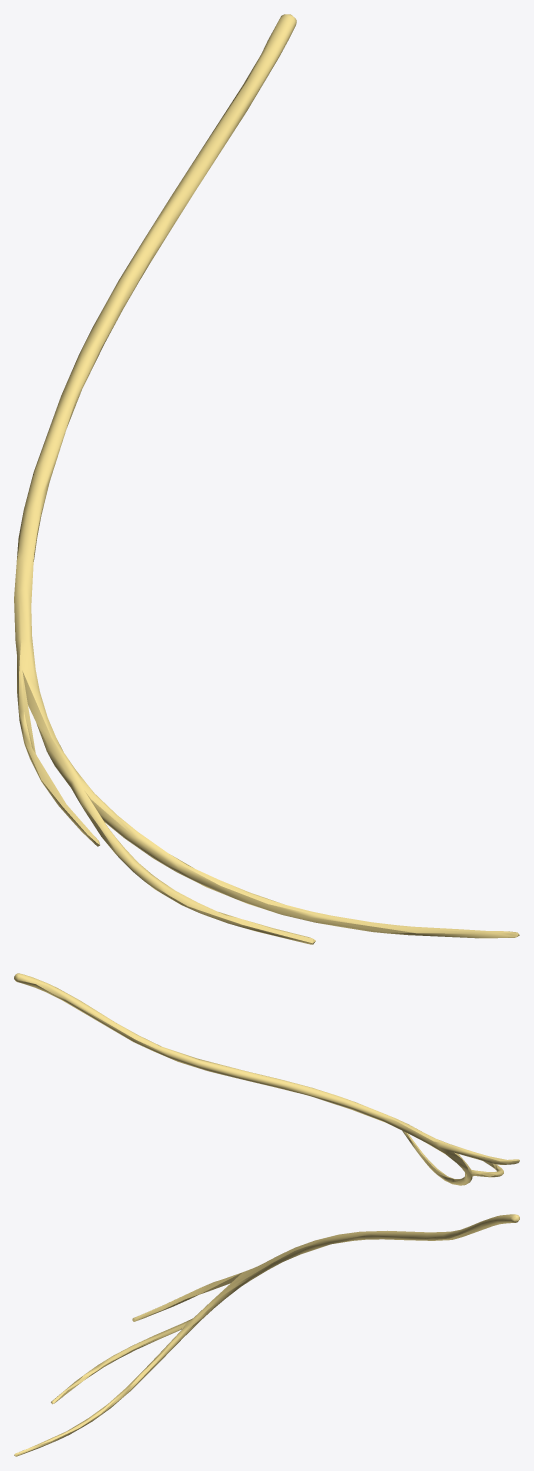
Rendered from fma65425_fj4034.glb.
The picture shows the model from 3 angles, top to bottom: view 1: azimuth 30°, elevation 25°; view 2: azimuth 150°, elevation 25°; view 3: azimuth 270°, elevation 25°; orthographic projection. The views are drawn at different scales.
Parts seen in each view (by area): view 1: FMA65425_FJ4034; view 2: FMA65425_FJ4034; view 3: FMA65425_FJ4034.
Part boxes in pixels (x1,y1,x2,y2): FMA65425_FJ4034: (14,14,519,944); FMA65425_FJ4034: (14,973,519,1185); FMA65425_FJ4034: (14,1214,519,1456).
Size of the model in its own units: 0.0199 by 0.0188 by 0.0283.
